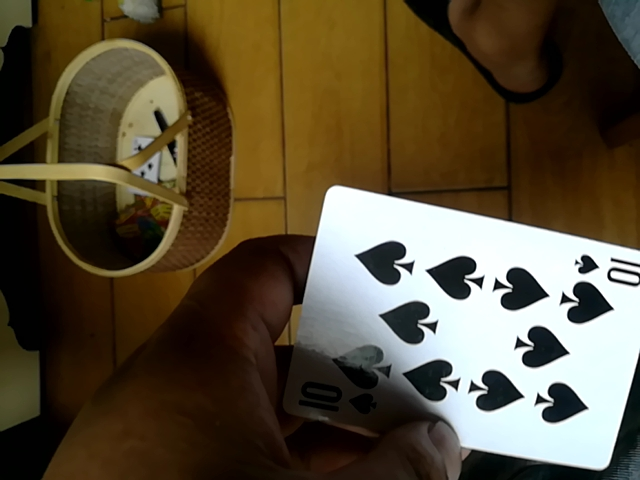ht 10: (288, 176, 638, 472)
